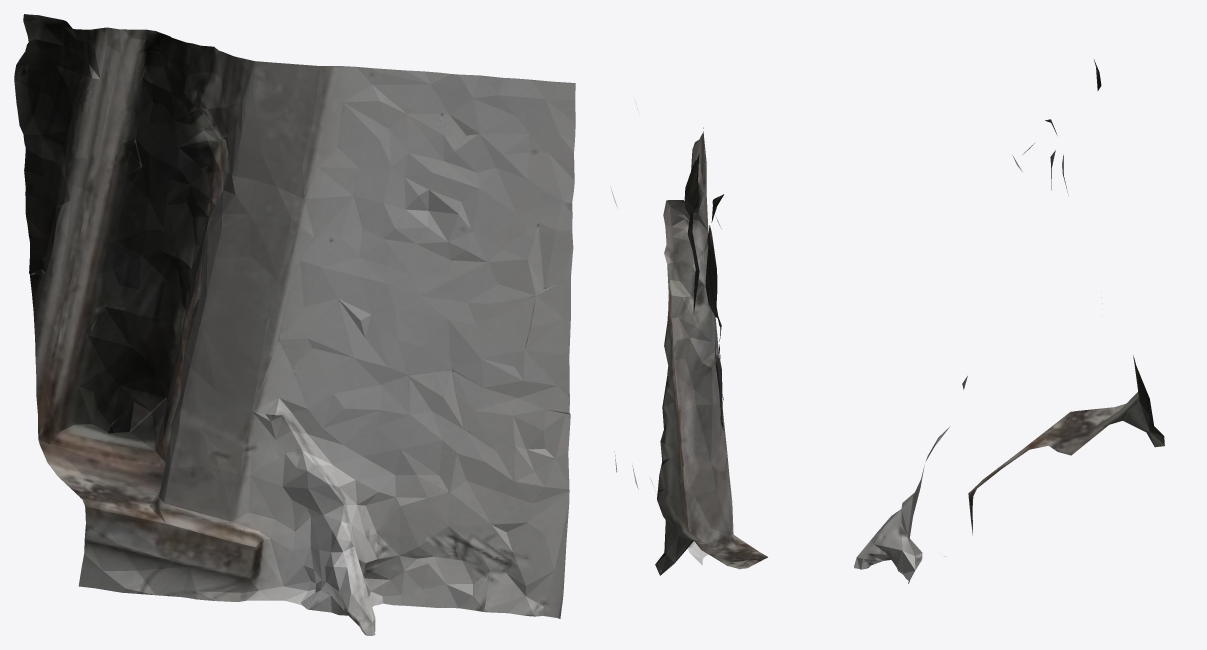
3 views of the same model, side by side, from view 1: azimuth 30°, elevation 25°; view 2: azimuth 150°, elevation 25°; view 3: azimuth 270°, elevation 25° (orthographic). The views are drawn at different scales.
Size of the model in its own units: 1.13 by 1.67 by 1.25.
Materials: 3 (3 with a texture image).
